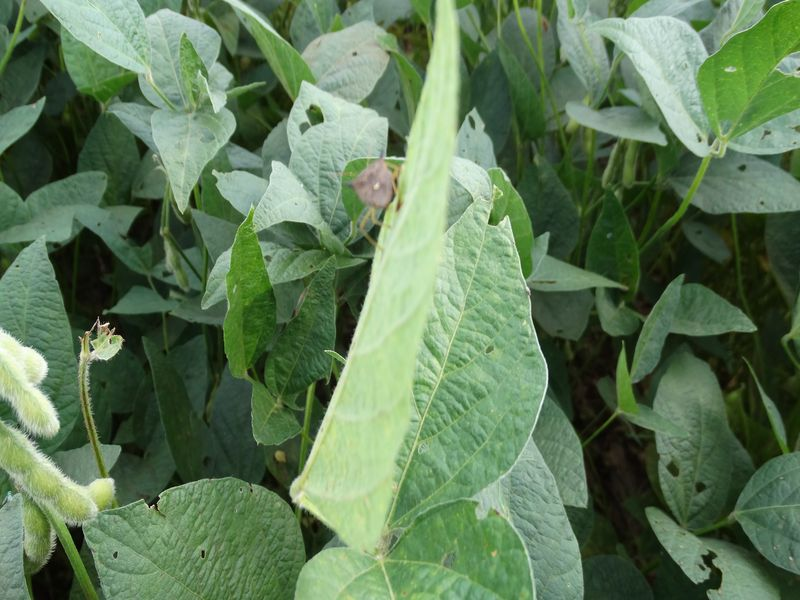Euschistus_heros_adulto: (339, 146, 414, 247)
